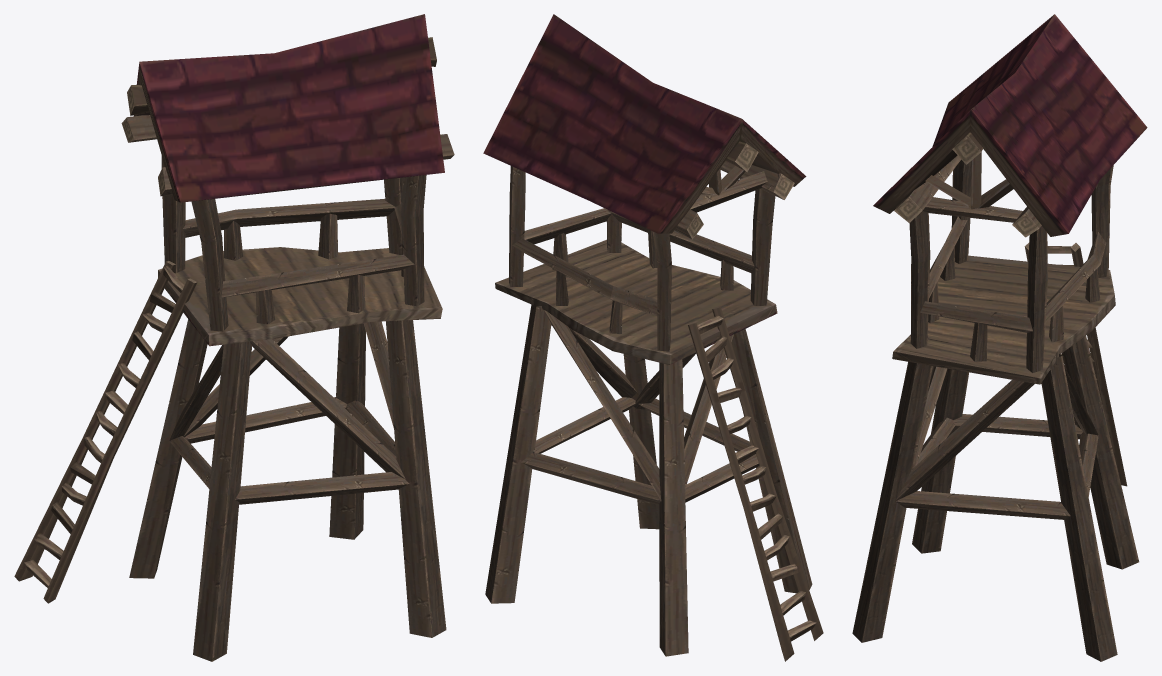
The model's file is building_guardtower2.fbx.
The picture shows the model from 3 angles, left to right: view 1: azimuth 30°, elevation 25°; view 2: azimuth 150°, elevation 25°; view 3: azimuth 270°, elevation 25°; orthographic projection. The views are drawn at different scales.
Visible parts, largest first — view 1: orig_vendor03; view 2: orig_vendor03; view 3: orig_vendor03.
Part boxes in pixels (left/top/right/bottom): orig_vendor03: left=14, top=14, right=454, bottom=661; orig_vendor03: left=483, top=14, right=823, bottom=661; orig_vendor03: left=852, top=14, right=1147, bottom=661.
Size of the model in its own units: 6.53 by 9.84 by 4.78.
